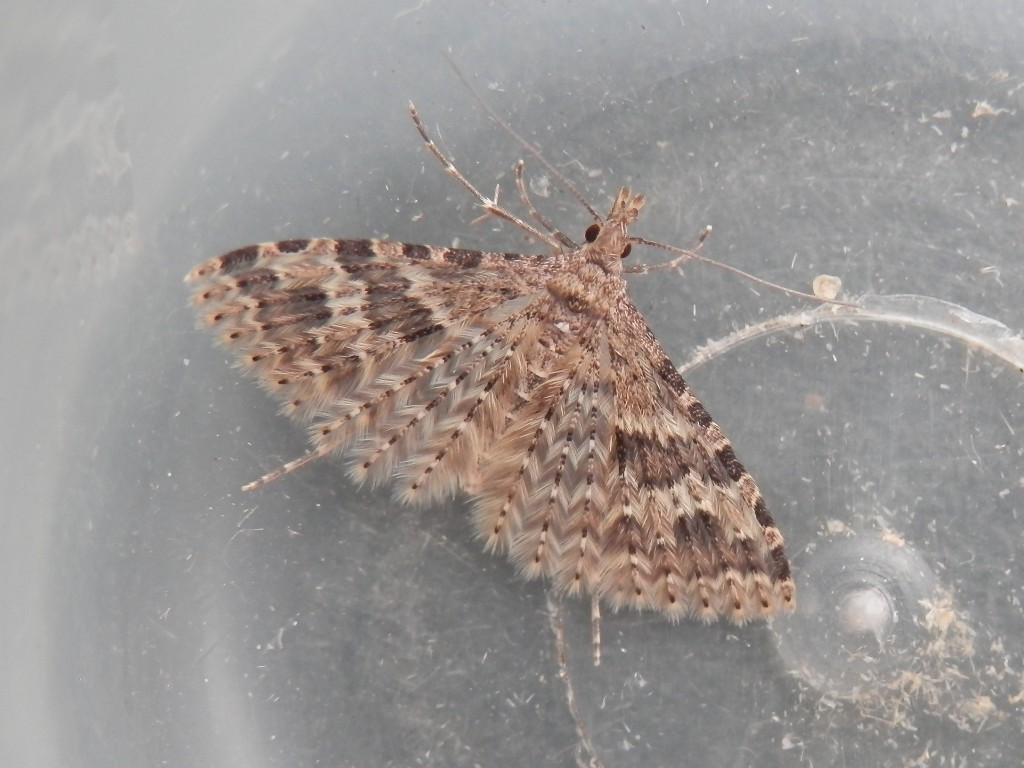Alucitidae: (180, 101, 866, 666)
moth: (178, 99, 864, 664)
